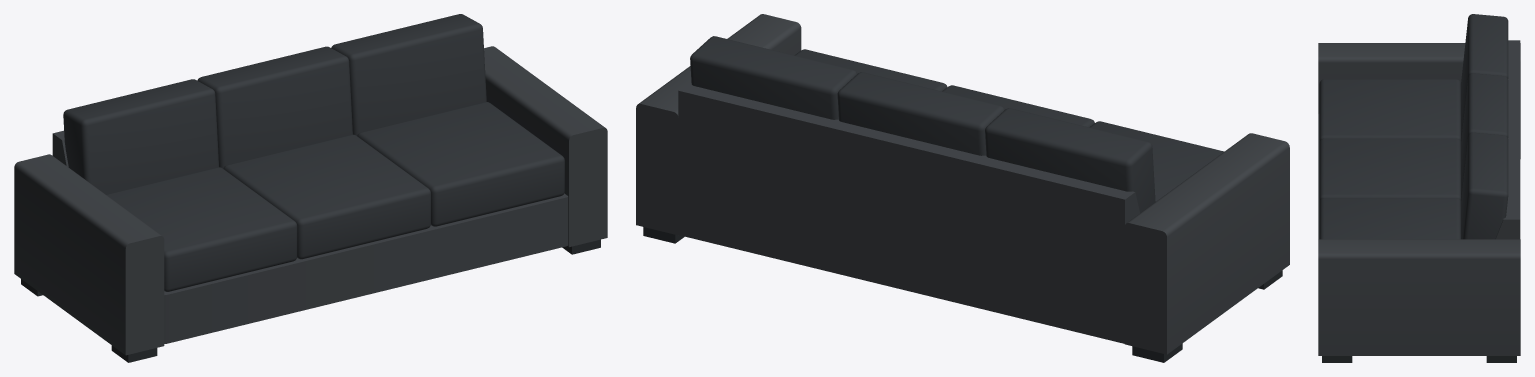
File: Sofa2_C1.fbx
3 views of the same model, side by side, from view 1: azimuth 30°, elevation 25°; view 2: azimuth 150°, elevation 25°; view 3: azimuth 270°, elevation 25° (orthographic). The views are drawn at different scales.
Visible parts, largest first — view 1: Sofa2_C1; view 2: Sofa2_C1; view 3: Sofa2_C1.
Boxes of the visible parts, x1=… form: Sofa2_C1: x1=14, y1=14, x2=607, y2=362; Sofa2_C1: x1=636, y1=14, x2=1289, y2=362; Sofa2_C1: x1=1318, y1=14, x2=1520, y2=362.
Size of the model in its own units: 250 by 85.61 by 100.
